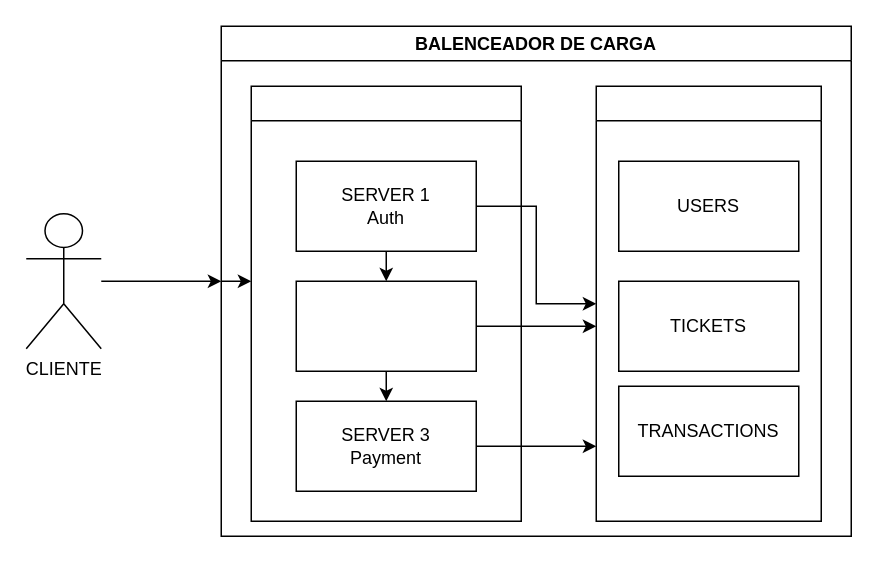
Some shapes in this 878 by 563 pixel diagram are drawn without their labels. Here are the shapes that lost their labels. From the top down, the box of each, then its label:
(250, 85, 521, 521): FILA VIRTUAL
(595, 85, 821, 521): BANCO DE DADOS
(295, 280, 476, 371): SERVER 2 Tickets
